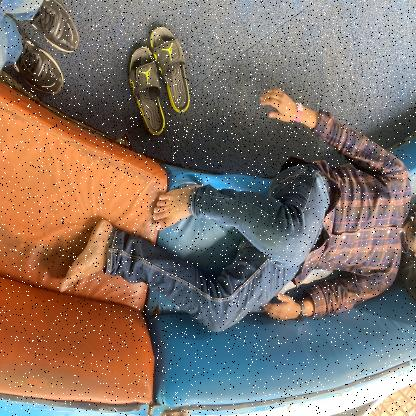hand: (257, 74, 382, 153), (262, 270, 370, 336)
leg: (60, 204, 223, 338), (139, 164, 287, 258), (0, 27, 70, 109), (5, 0, 104, 53)
